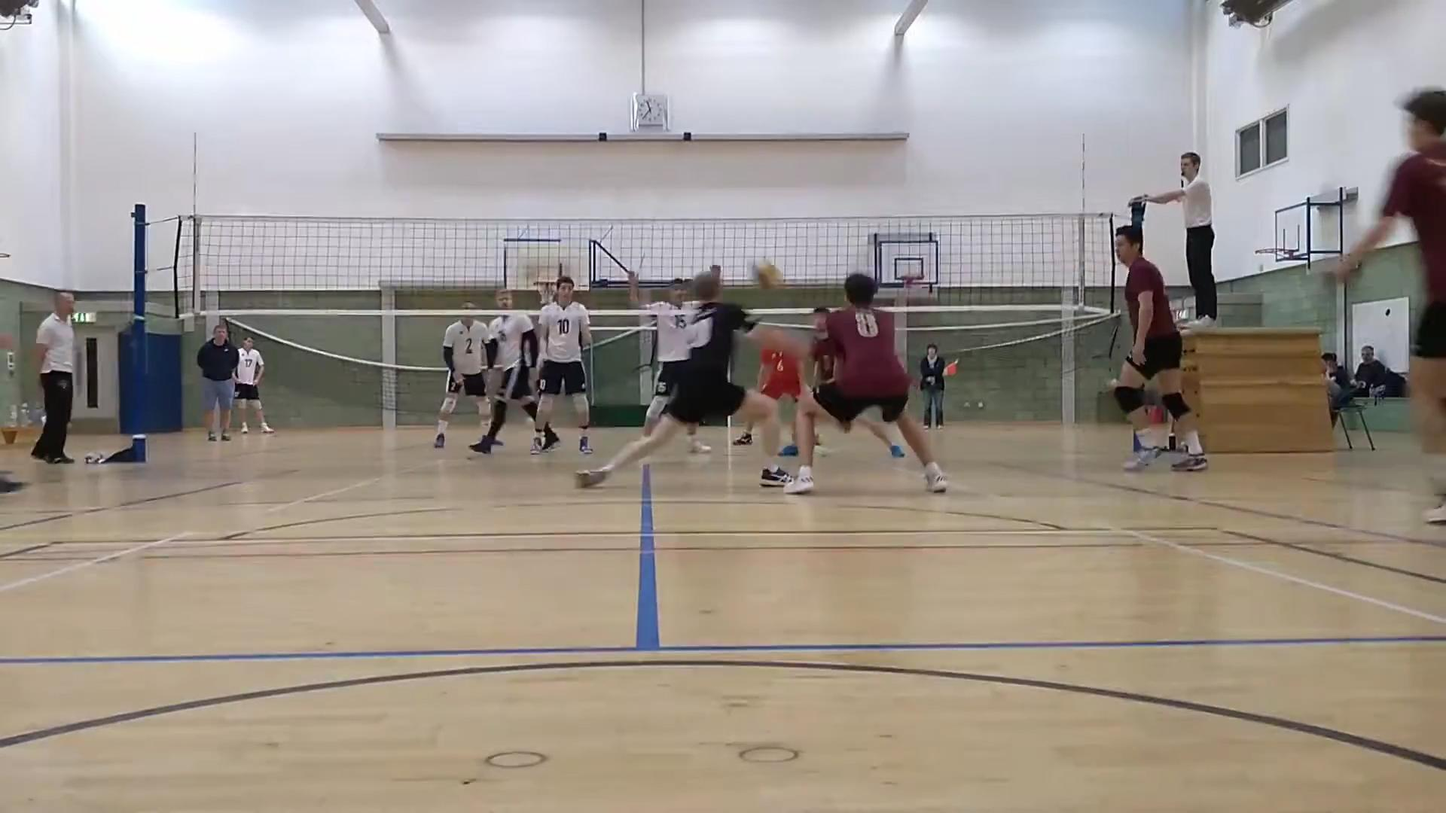Player: (1338, 88, 1445, 524), (786, 273, 947, 493), (1114, 225, 1207, 470), (469, 289, 538, 453), (726, 320, 810, 452), (627, 272, 694, 436), (531, 276, 591, 454), (433, 297, 496, 455), (811, 307, 835, 385)
Receive: (572, 274, 804, 499)
ball: (755, 262, 792, 288)
